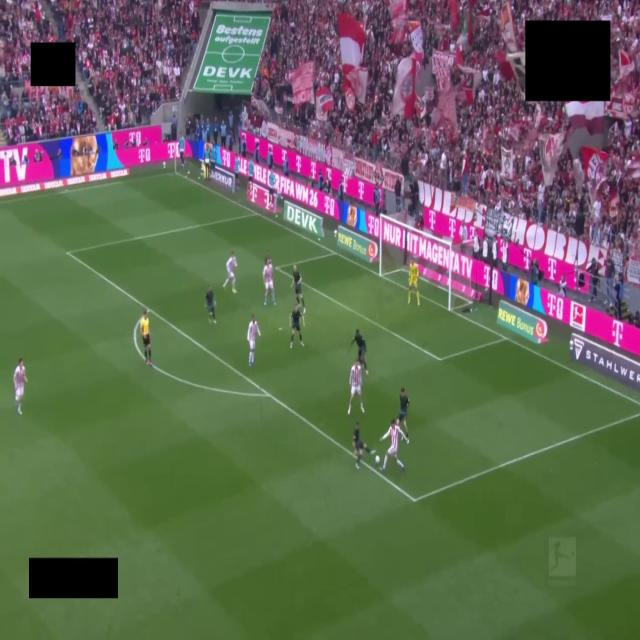ball: (375, 456, 379, 464)
player: (380, 420, 407, 471), (353, 423, 375, 469), (348, 361, 364, 414), (351, 329, 368, 375), (14, 359, 27, 415), (247, 315, 260, 367), (290, 304, 304, 348), (292, 265, 305, 312), (398, 387, 409, 441), (263, 258, 275, 305), (223, 252, 236, 293), (408, 260, 419, 305), (205, 286, 216, 323), (265, 251, 270, 263)
referee: (140, 311, 151, 366)
